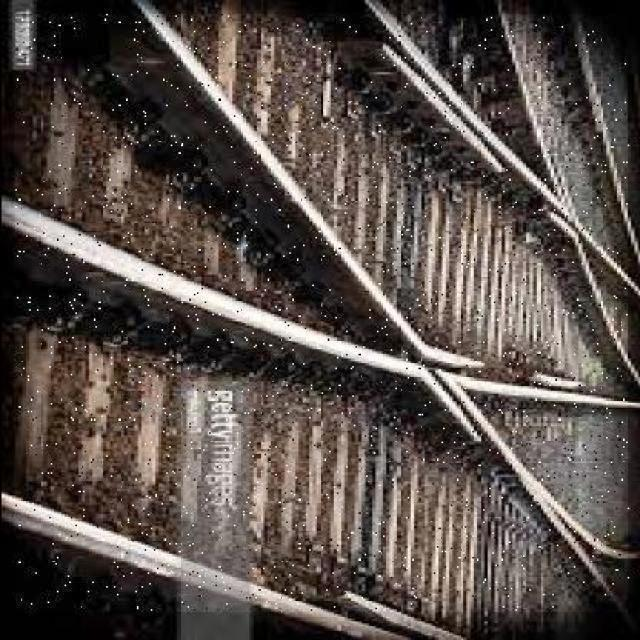rail: (15, 15, 629, 613)
